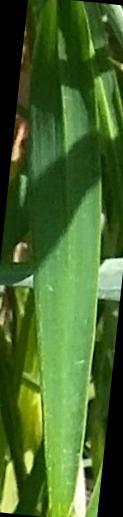Wheat: (31, 207, 105, 517), (20, 3, 106, 201)
